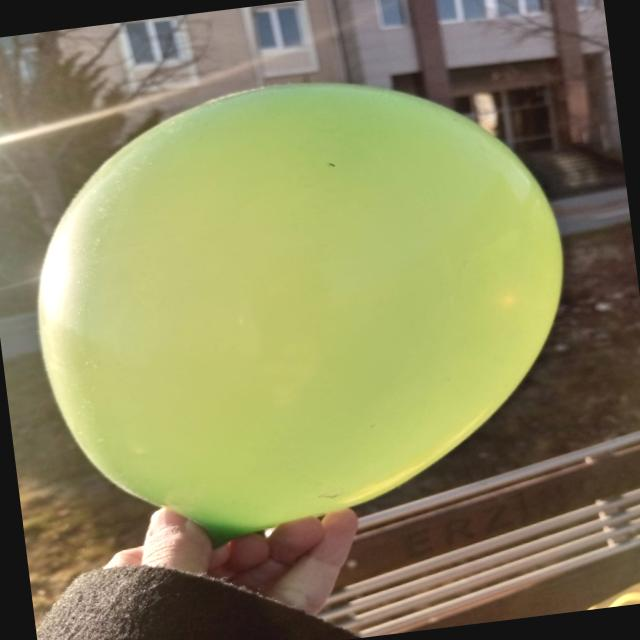balloon: (38, 83, 562, 542)
